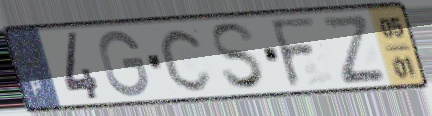4: (61, 29, 101, 103)
C: (157, 25, 216, 94)
F: (268, 14, 321, 90)
G: (97, 28, 151, 99)
S: (209, 20, 269, 93)
Z: (317, 14, 389, 87)
